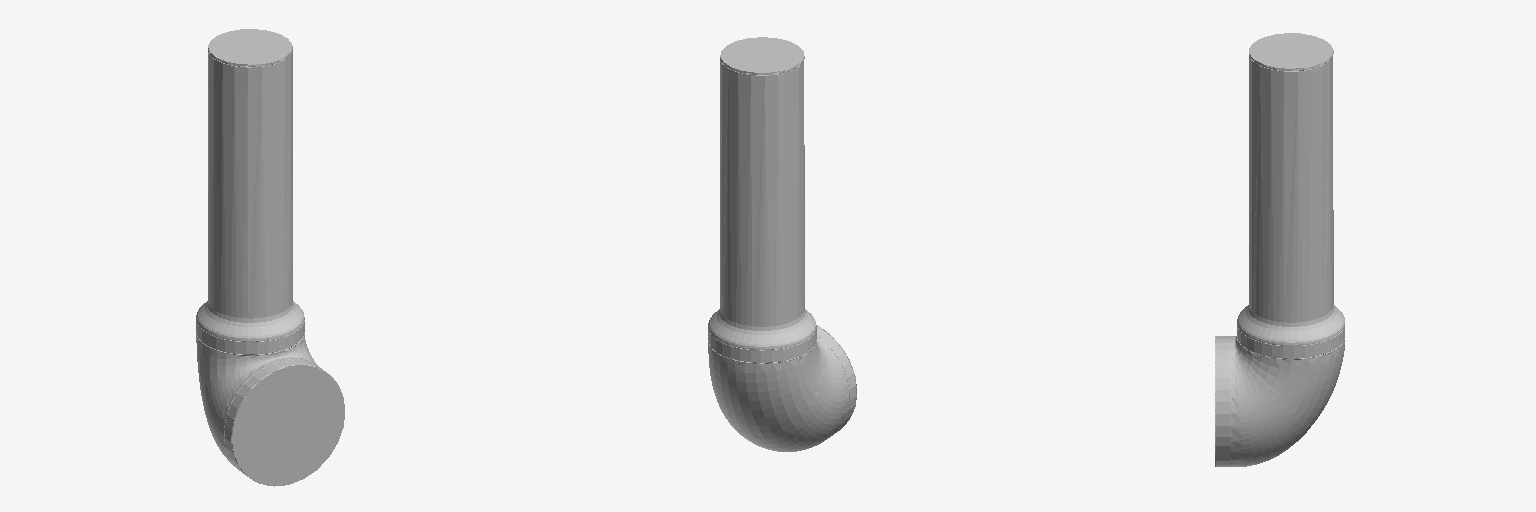
Rendered from armL link3.003.obj.
3 views of the same model, side by side, from view 1: azimuth 30°, elevation 25°; view 2: azimuth 150°, elevation 25°; view 3: azimuth 270°, elevation 25° (orthographic).
Visible parts, largest first — view 1: collision_0_armL_link3_armL_link3.003; view 2: collision_0_armL_link3_armL_link3.003; view 3: collision_0_armL_link3_armL_link3.003.
Boxes of the visible parts, box(x1,y1,x2,y2) form: collision_0_armL_link3_armL_link3.003: box(196, 29, 344, 486); collision_0_armL_link3_armL_link3.003: box(708, 37, 856, 451); collision_0_armL_link3_armL_link3.003: box(1215, 33, 1344, 466).
Bounding box in the file's own units: 0.058 × 0.2002 × 0.0579.